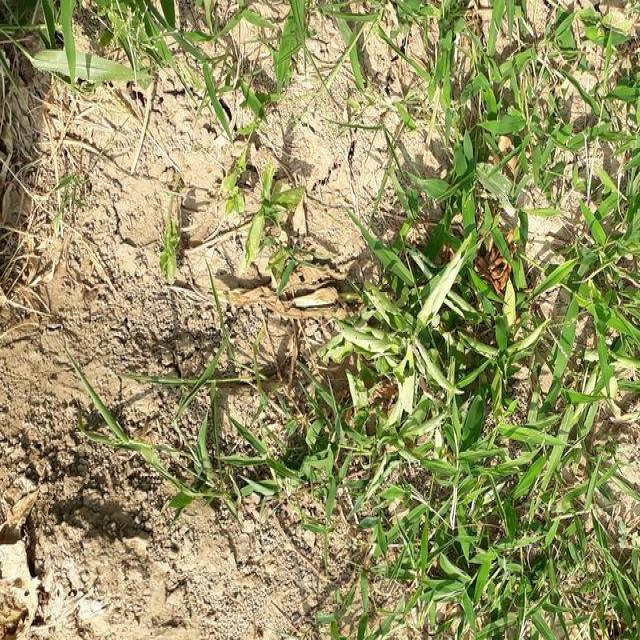weed: (326, 173, 640, 637)
